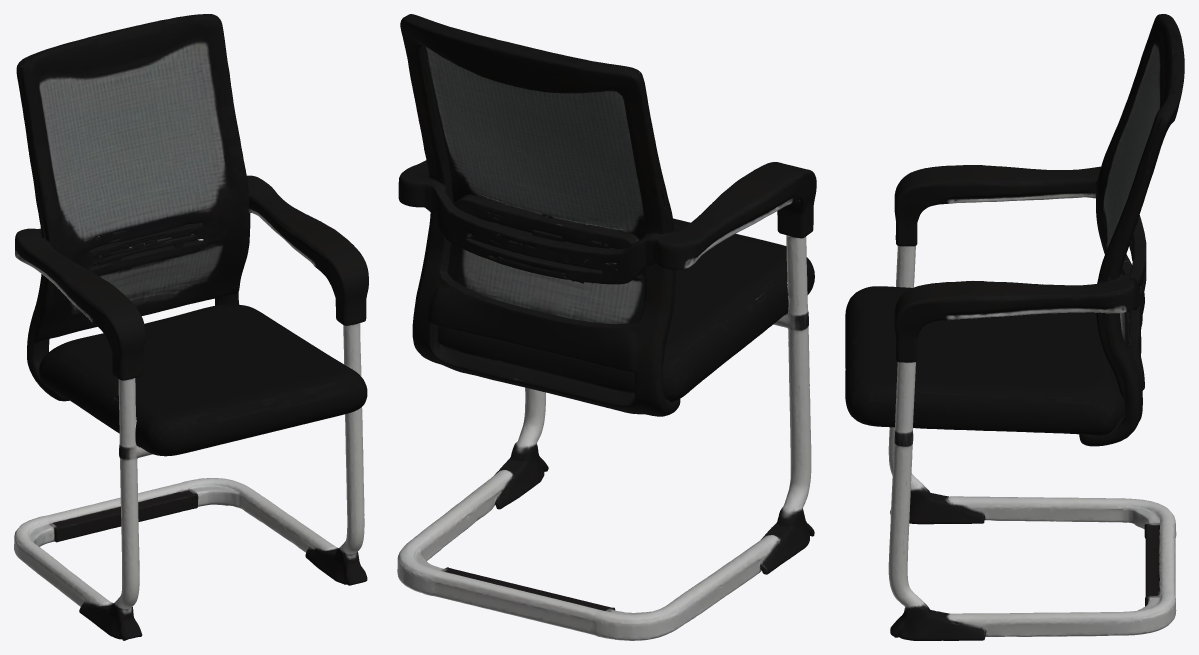
Rendered from 18_弓形访客椅.glb.
The picture shows the model from 3 angles, left to right: view 1: azimuth 30°, elevation 25°; view 2: azimuth 150°, elevation 25°; view 3: azimuth 270°, elevation 25°; orthographic projection. The views are drawn at different scales.
Visible parts, largest first — view 1: world; view 2: world; view 3: world.
Part boxes in pixels (box(x1,y1,x2,y2)): world: box(14, 14, 368, 640); world: box(397, 14, 816, 640); world: box(845, 14, 1184, 640).
Bounding box in the file's own units: 0.5624 × 1 × 0.5989.
Materials: 1 (1 with a texture image).
